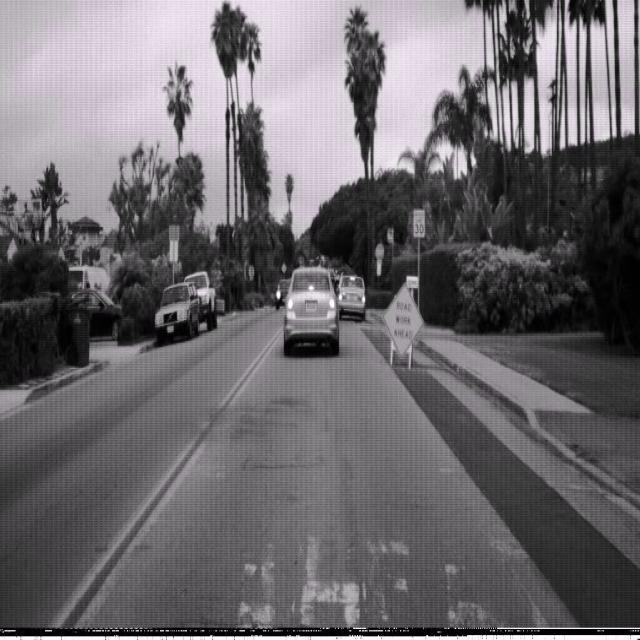speedLimit30: (412, 207, 426, 238)
